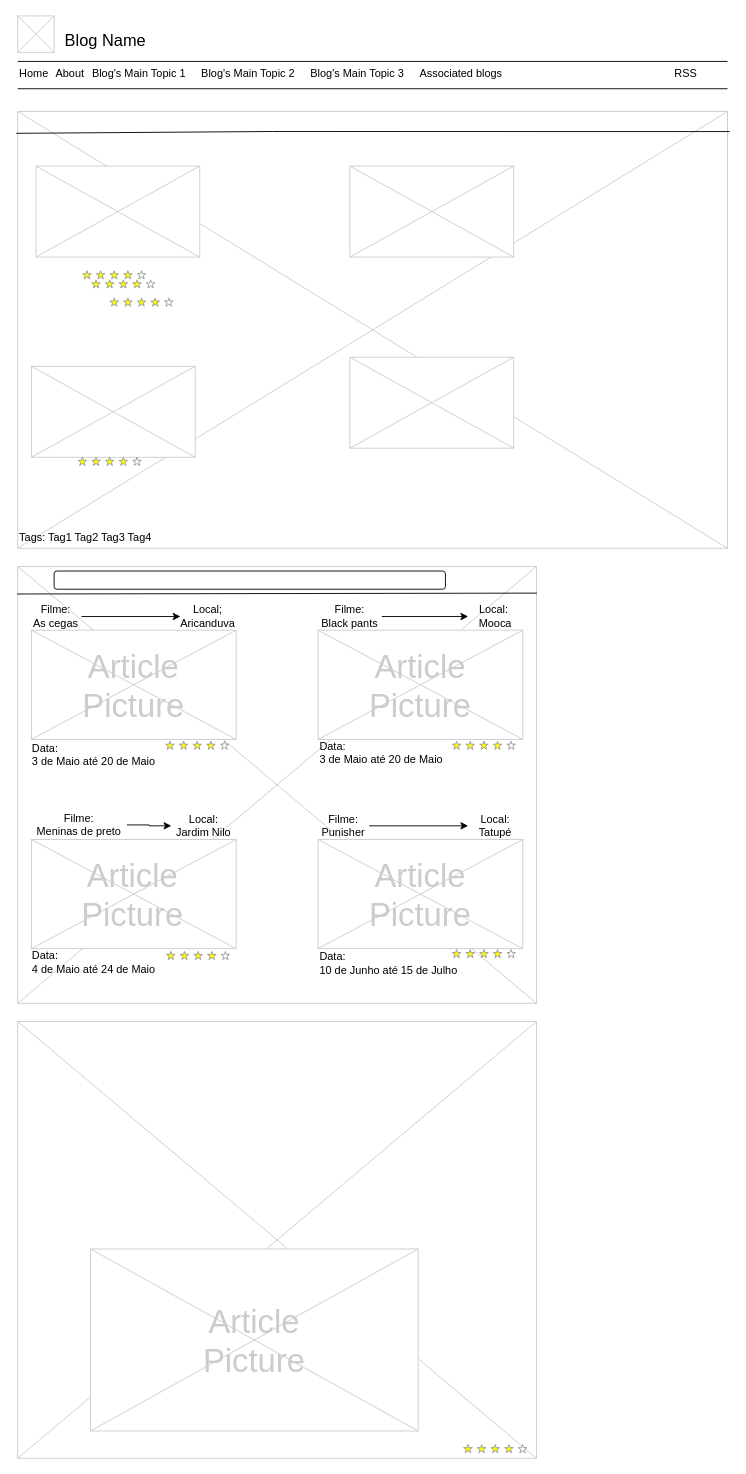
Image size: 746x1474. Some labels were removed from this diagram. The centre of each missing label's shape, as x and y in pixels:
Blog Logo: point (35, 33)
WWW.com: point (249, 579)
